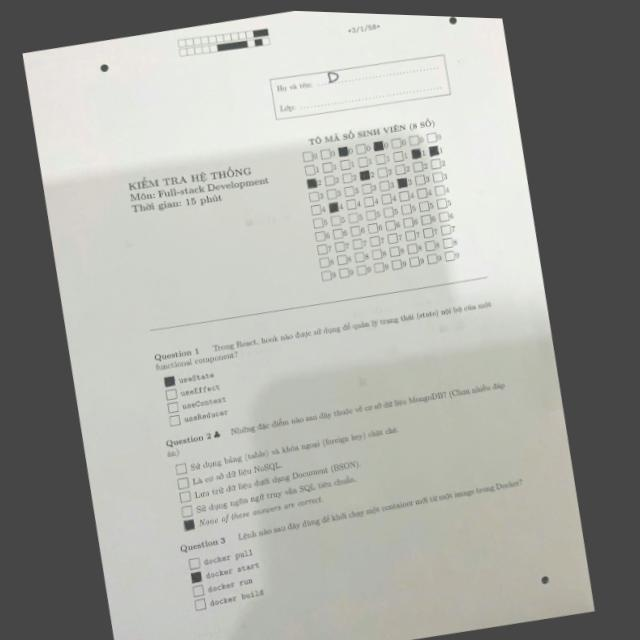Markers: (539, 574, 550, 587), (98, 61, 109, 73), (447, 17, 457, 25)
